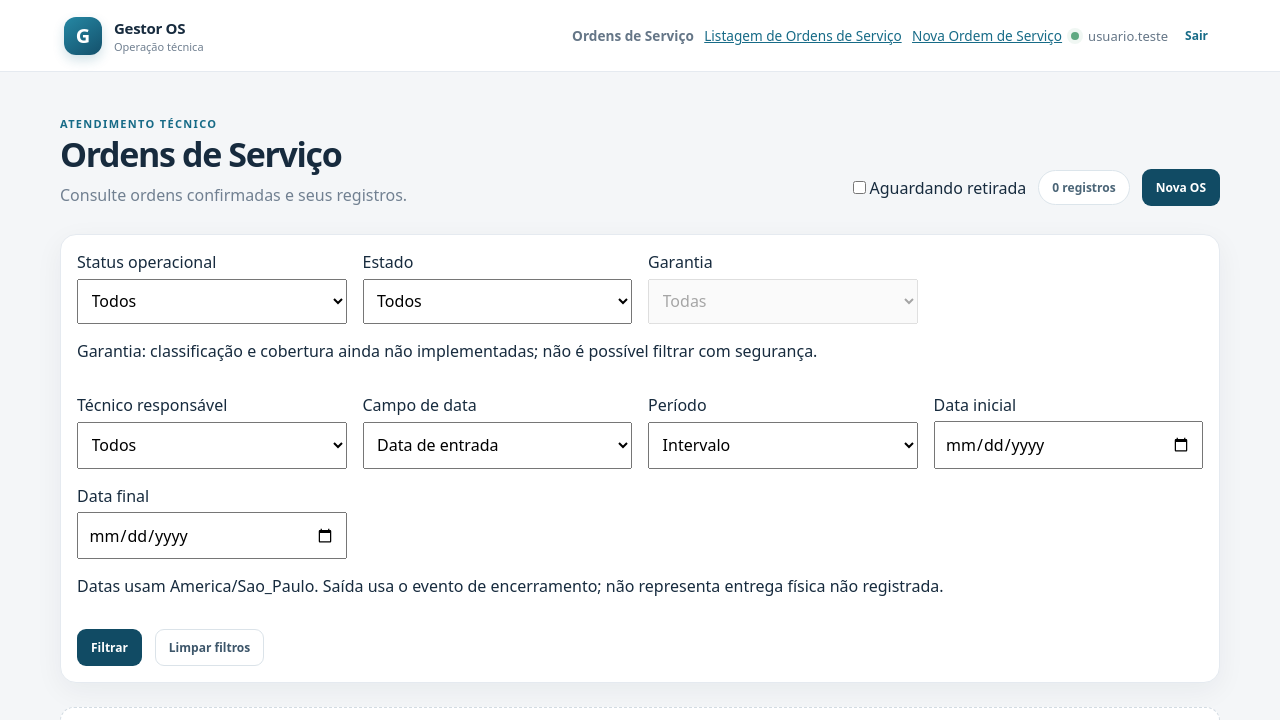
Test: inicia a abertura a partir da lista e reserva o número com CSRF
What coordinates should you click on to do the following:
click the button "Nova OS"
I would click on:
 (1181, 188)
Its box is [1142, 169, 1220, 206].
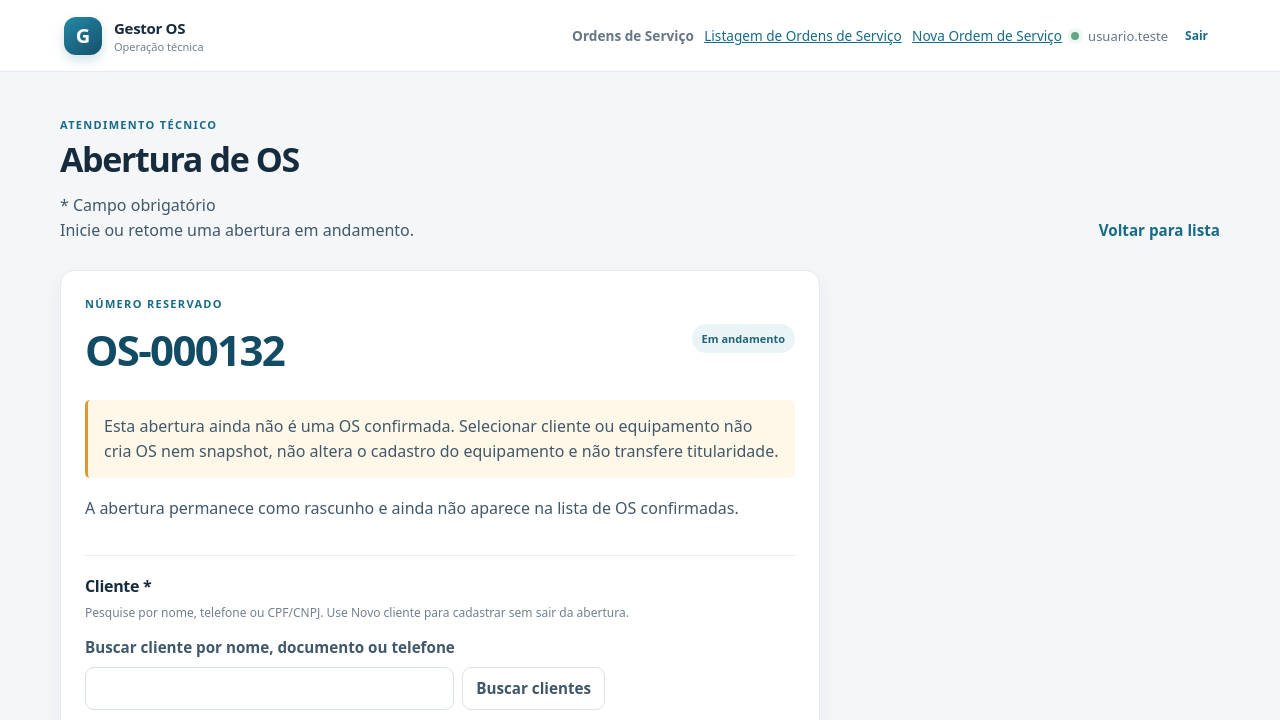
Result: the text "OS-000132" is shown at [85, 317, 284, 382]
